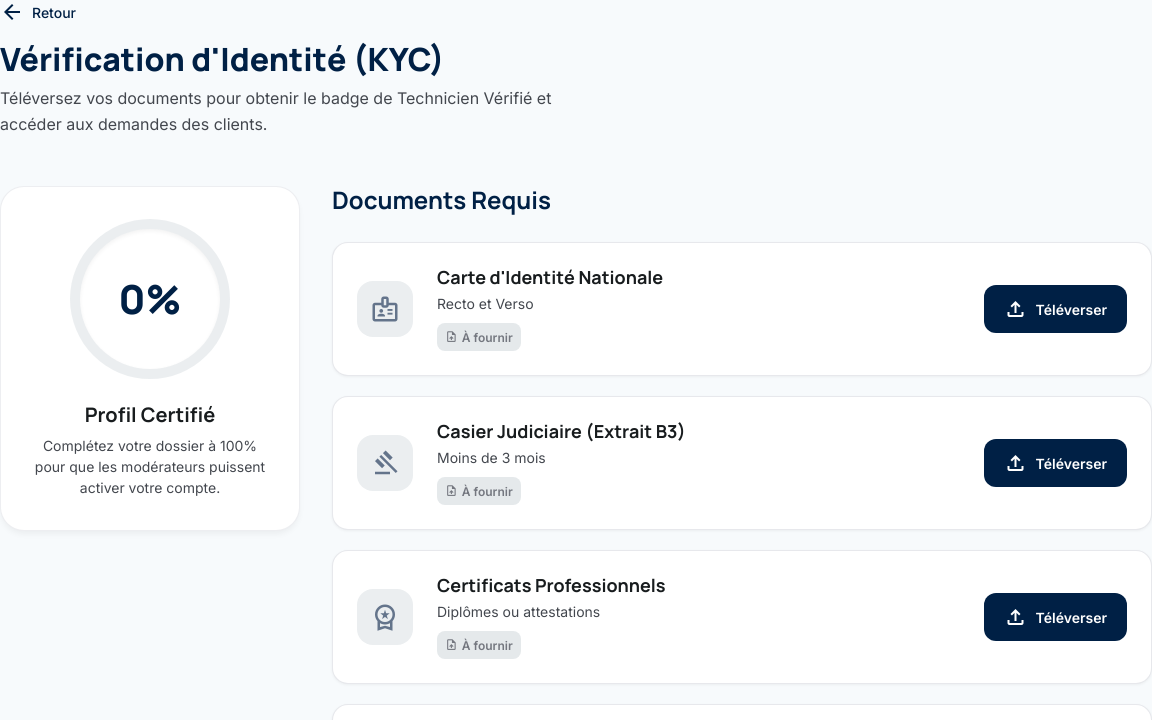
Test: KYCStatus › téléverse le document choisi sous son type et le passe « en cours d'analyse »
The width and height of the screenshot is (1152, 720).
Click the button "Téléverser" in the row of "Carte d'Identité Nationale". click: coordinates (1055, 309)
box: x1=984 y1=285 x2=1127 y2=333
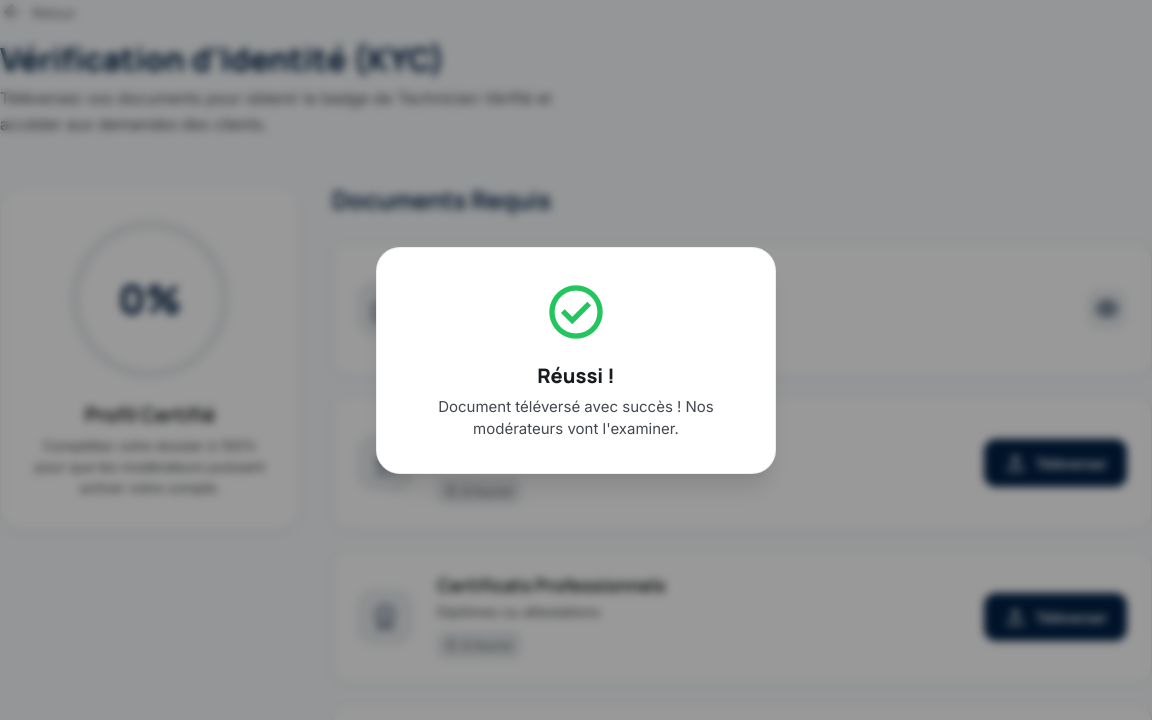
Result: the text "téléversé avec succès" is shown at x1=438 y1=396 x2=714 y2=438
Result: the text "En cours d'analyse" is shown at x1=437 y1=323 x2=580 y2=351
